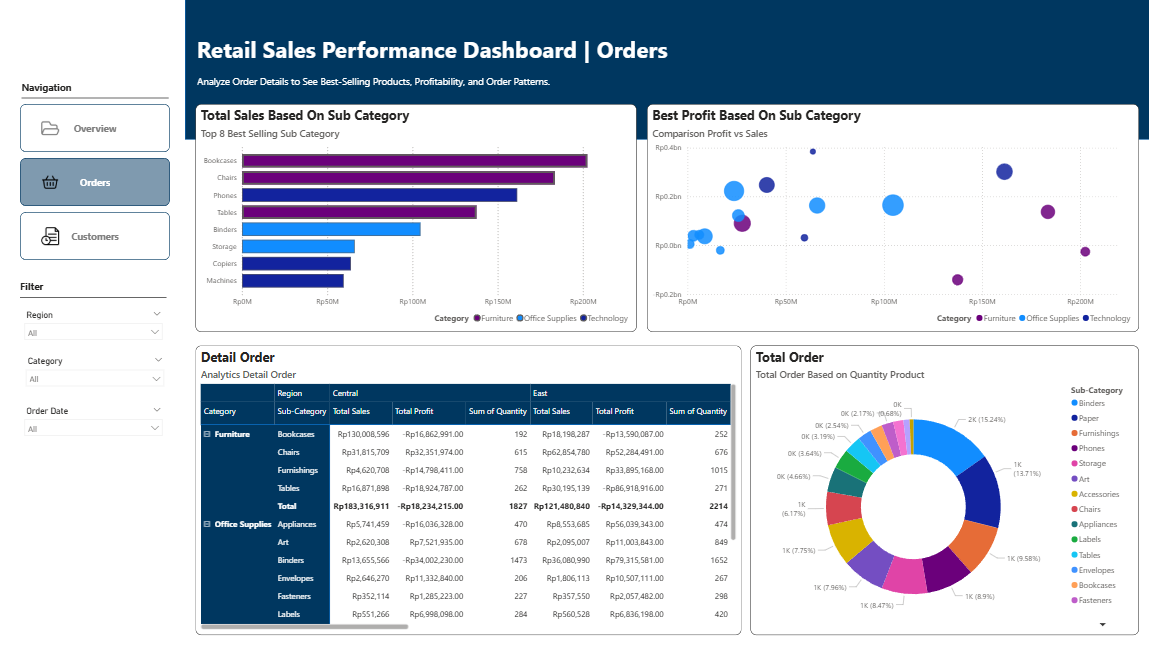

The dashboard page shown, as its layout file describes it:
{"tool":"powerbi","page":{"name":"Orders","canvas":[1920,1080],"ordinal":1},"visuals":[{"type":"shape","box":[0,0,310,1080],"z":0},{"type":"textbox","box":[33.3,131.1,100,100],"z":0,"group":"g4"},{"type":"shape","box":[38.3,115,245,100],"z":1000,"group":"g4"},{"type":"group","id":"g1","title":"Group 1","box":[34.4,174.4,250,80],"z":1000},{"type":"image","box":[64.4,194.4,40,40],"z":1000,"group":"g1"},{"type":"actionButton","box":[34.4,264.4,250,80],"z":1000,"group":"g2"},{"type":"actionButton","box":[34.4,354.4,250,80],"z":1000,"group":"g3"},{"type":"group","id":"g2","title":"Group 2","box":[34.4,264.4,250,80],"z":2000},{"type":"actionButton","box":[34.4,174.4,250,80],"z":3000,"group":"g1"},{"type":"image","box":[64.4,284.4,40,40],"z":3000,"group":"g2"},{"type":"group","id":"g3","title":"Group 3","box":[34.4,354.4,250,80],"z":3000},{"type":"image","box":[64.4,374.4,40,40],"z":3002,"group":"g3"},{"type":"slicer","fields":{"Values":["superstore_cleaned.Region"]},"box":[33.3,512.2,250,65.6],"z":4000},{"type":"slicer","fields":{"Values":["superstore_cleaned.Category"]},"box":[34.4,590,250,64.4],"z":5000},{"type":"group","id":"g4","title":"Group 4","box":[33.3,115,250,116.1],"z":6000},{"type":"textbox","box":[31.1,461.7,100,100],"z":6000,"group":"g5"},{"type":"group","id":"g5","title":"Group 5","box":[31.1,447.8,248.9,114.4],"z":7000},{"type":"shape","box":[36.1,447.8,244.4,100],"z":7000,"group":"g5"},{"type":"slicer","fields":{"Values":["superstore_cleaned.Order Date.Variation.Date Hierarchy.Year"]},"box":[33.3,673.3,250,64.4],"z":8000},{"type":"shape","box":[310,0,1610,234.3],"z":9000},{"type":"textbox","box":[326,52,1202,100],"z":10000},{"type":"donutChart","title":"Total Order","fields":{"Y":["superstore_cleaned.Total Order"],"Category":["superstore_cleaned.Sub-Category"]},"box":[1252.5,577.5,647.5,482.5],"z":11000},{"type":"scatterChart","title":"Best Profit Based On Sub Category","fields":{"X":["superstore_cleaned.Total Sales"],"Y":["superstore_cleaned.Total Profit"],"Category":["superstore_cleaned.Sub-Category"],"Series":["superstore_cleaned.Category"],"Size":["Sum(superstore_cleaned.Quantity)"]},"box":[1080,175,820,380],"z":12000},{"type":"pivotTable","title":"Detail Order","fields":{"Rows":["superstore_cleaned.Category","superstore_cleaned.Sub-Category"],"Values":["superstore_cleaned.Total Sales","superstore_cleaned.Total Profit","Sum(superstore_cleaned.Quantity)"],"Columns":["superstore_cleaned.Region"]},"box":[327.5,577.5,910,482.5],"z":13000},{"type":"barChart","title":"Total Sales Based On Sub Category ","fields":{"Category":["superstore_cleaned.Sub-Category"],"Y":["superstore_cleaned.Total Sales"],"Series":["superstore_cleaned.Category"]},"box":[327.5,175,735,380],"z":14000}]}

Visuals, with their boxes on the page's 1920x1080 design canvas (x1, y1, x2, y2). These are canvas units, not pixel positions in the 1149x645 screenshot, which may show the page scaled, cropped or inside an application window:
shape: box(0, 0, 310, 1080)
textbox: box(33, 131, 133, 231)
shape: box(38, 115, 283, 215)
"Group 1" group: box(34, 174, 284, 254)
image: box(64, 194, 104, 234)
actionButton: box(34, 264, 284, 344)
actionButton: box(34, 354, 284, 434)
"Group 2" group: box(34, 264, 284, 344)
actionButton: box(34, 174, 284, 254)
image: box(64, 284, 104, 324)
"Group 3" group: box(34, 354, 284, 434)
image: box(64, 374, 104, 414)
slicer - superstore_cleaned.Region: box(33, 512, 283, 578)
slicer - superstore_cleaned.Category: box(34, 590, 284, 654)
"Group 4" group: box(33, 115, 283, 231)
textbox: box(31, 462, 131, 562)
"Group 5" group: box(31, 448, 280, 562)
shape: box(36, 448, 280, 548)
slicer - superstore_cleaned.Order Date.Variation.Date Hierarchy.Year: box(33, 673, 283, 738)
shape: box(310, 0, 1920, 234)
textbox: box(326, 52, 1528, 152)
"Total Order" donutChart: box(1252, 578, 1900, 1060)
"Best Profit Based On Sub Category" scatterChart: box(1080, 175, 1900, 555)
"Detail Order" pivotTable: box(328, 578, 1238, 1060)
"Total Sales Based On Sub Category " barChart: box(328, 175, 1062, 555)
